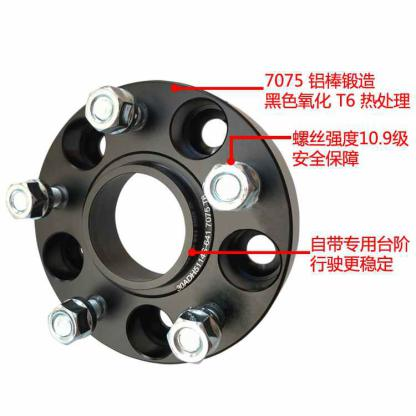FOD: (6, 76, 306, 367)
